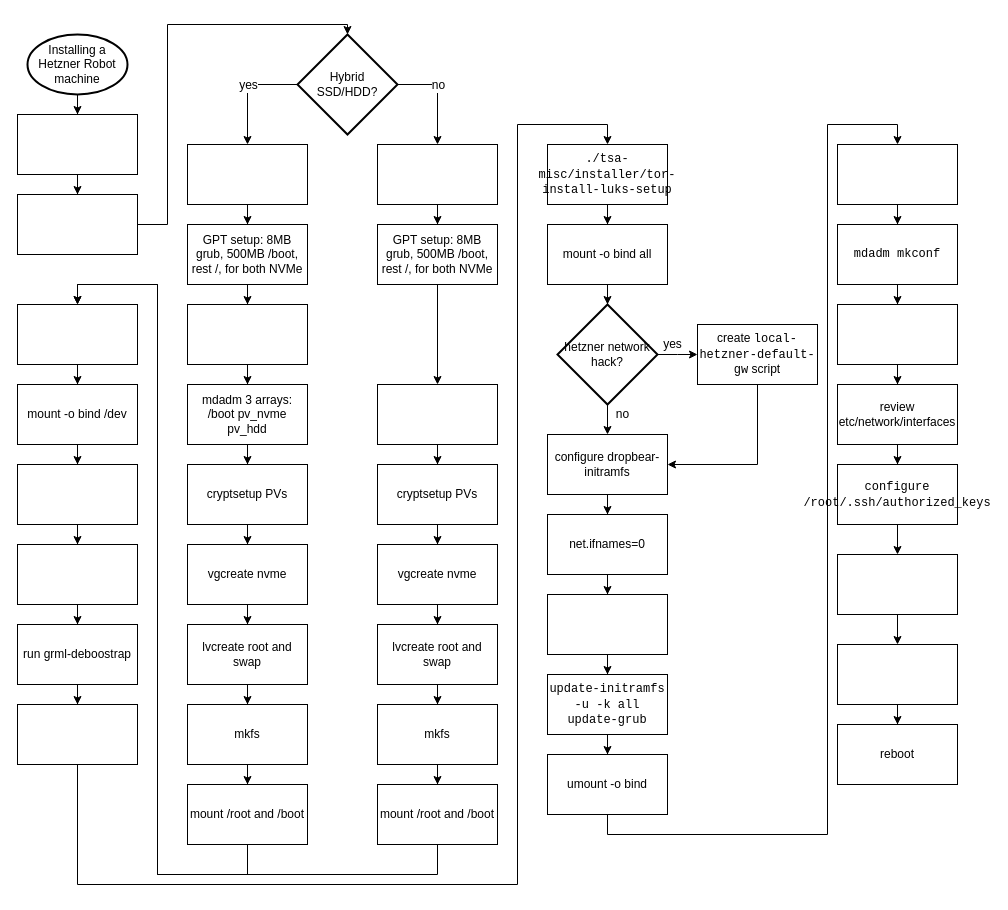
Some shapes in this 1008 by 910 pixel diagram are drawn without their labels. The shapes that lost their labels are listed below. From the top down, each one's centre as x and y in pixels, then its label:
At [77,144]: "Create the machine in Hetzner Robot".
At [247,174]: "./tsa-misc/tor-install-format-disks-nvme+hdds".
At [437,174]: "./tsa-misc/tor-install-format-disks-4HDDs".
At [897,174]: "mount -o bind again".
At [77,224]: "Login to the server with SSH, checking the fingerprint from the email".
At [77,334]: "mount /run tmpfs".
At [247,334]: "sdX 100%".
At [897,334]: "grub-install".
At [437,414]: "mdadm 2 arrays: /boot pv_$hostname".
At [77,494]: "generate root password".
At [77,574]: "install and configure grml-debootstrap".
At [897,584]: "update-initramfs -u update-grub".
At [607,624]: "configure crypttab".
At [897,674]: "unmount, stop VGs and RAID".
At [77,734]: "configure fstab".
